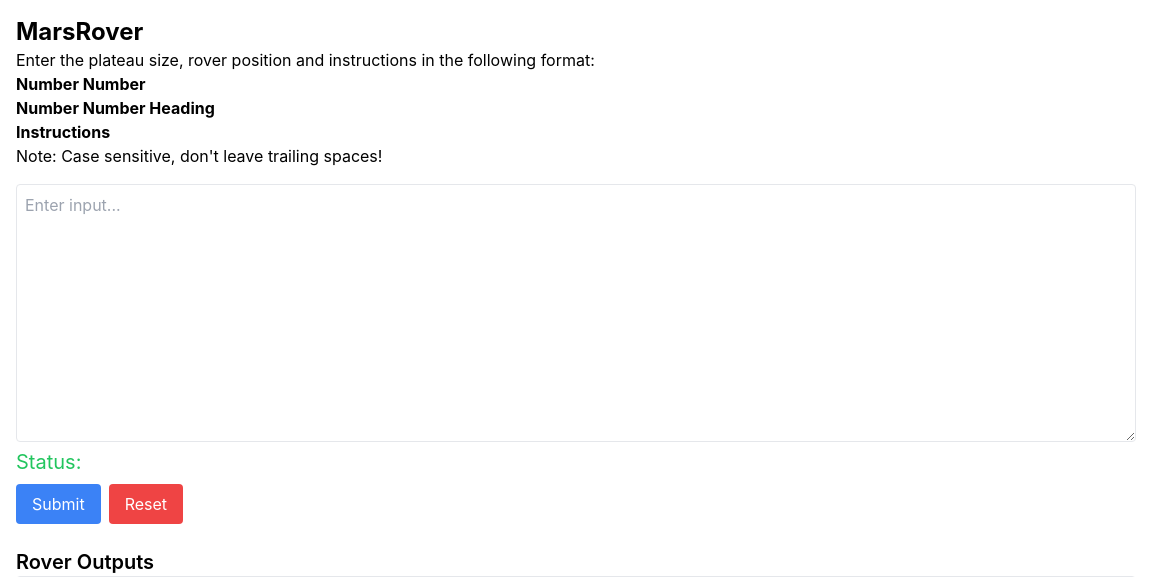
Test case: displays error message for invalid input
In the text box with placeholder "Enter input...": (576, 313) [16,184,1136,442], type "invalid input"
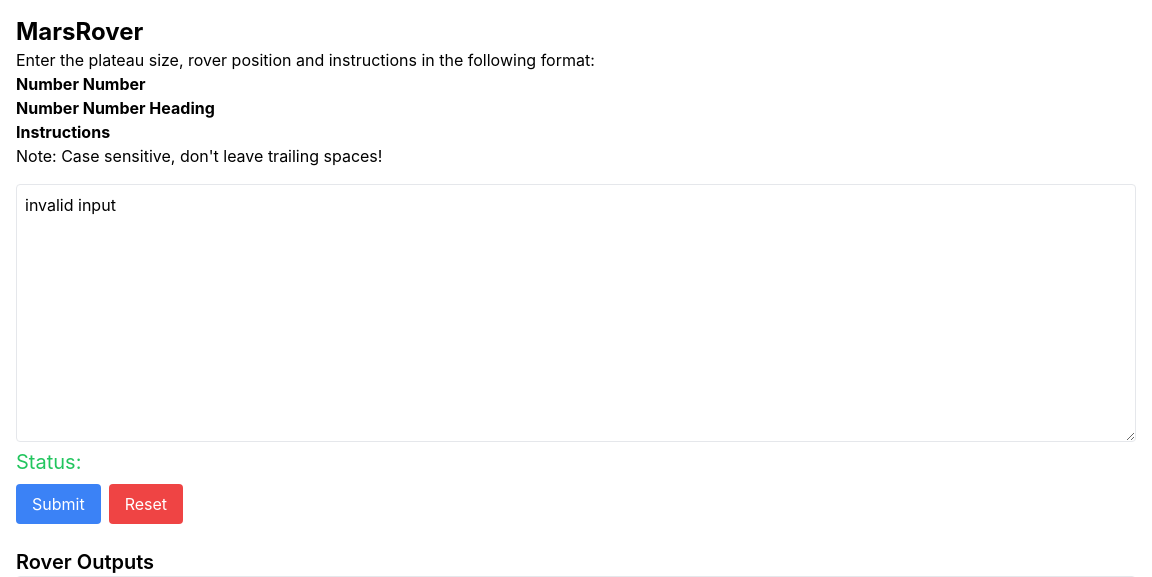
Click the button "Submit": (58, 504) [16,484,101,524]
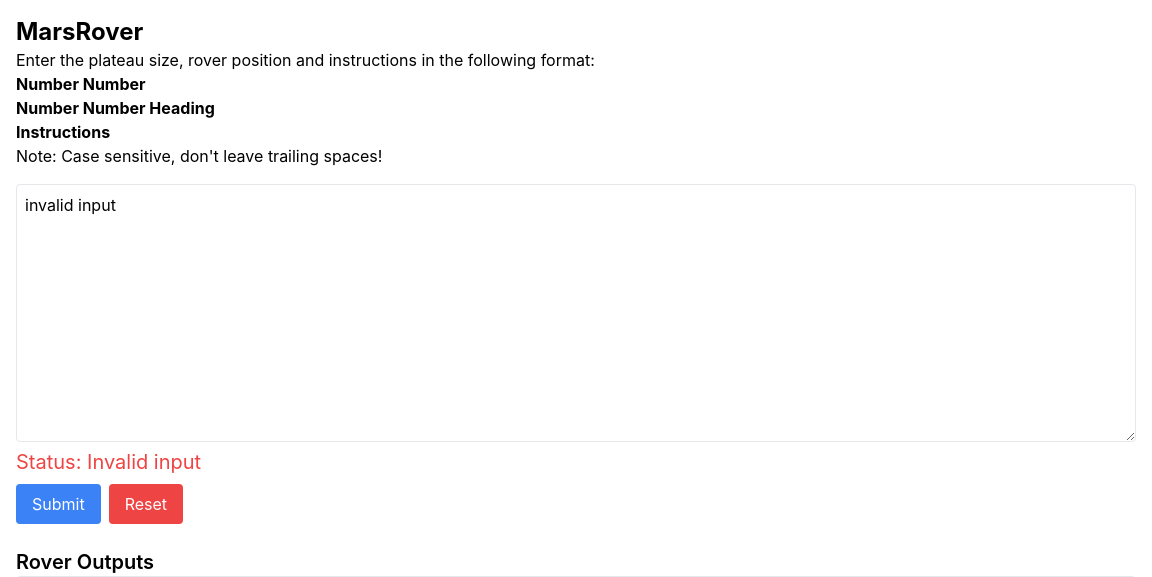
Now the text "Status: Invalid input" is shown, box [16,450,201,474]
